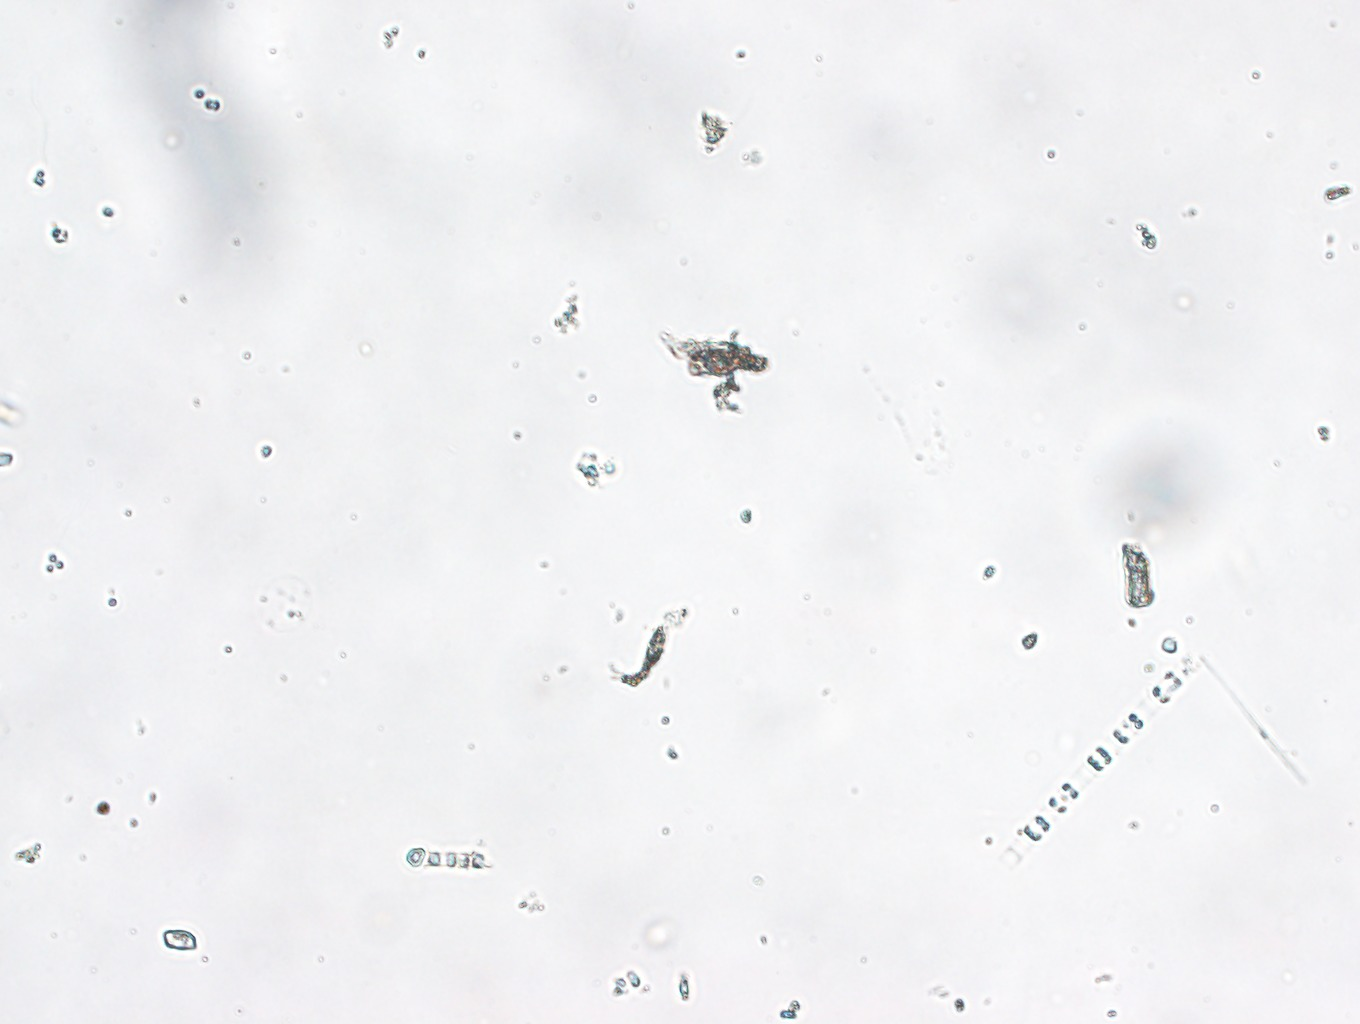skeletonema: (1008, 652, 1217, 881)
